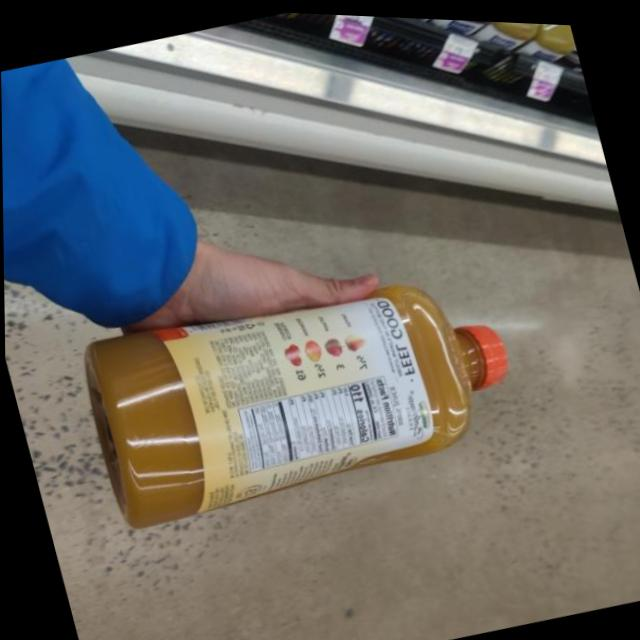Juice: (65, 237, 517, 530)
